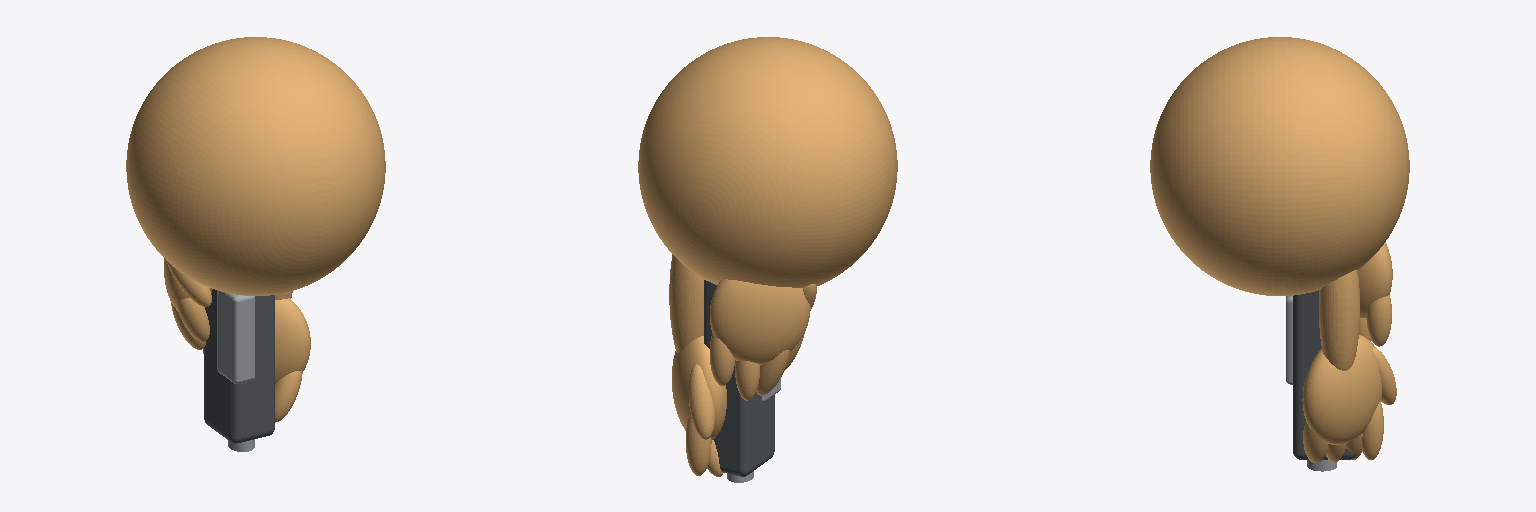
The model's file is tinker.obj.
3 views of the same model, side by side, from view 1: azimuth 30°, elevation 25°; view 2: azimuth 150°, elevation 25°; view 3: azimuth 270°, elevation 25° (orthographic).
Visible parts, largest first — view 1: obj_0, obj_13, obj_15, obj_1, obj_11, obj_2, obj_12; view 2: obj_0, obj_7, obj_13, obj_14, obj_1, obj_6, obj_5, obj_8, obj_9, obj_10; view 3: obj_0, obj_1, obj_14, obj_13, obj_7, obj_8, obj_5, obj_6, obj_2, obj_15.
Part boxes in pixels (x1,y1,x2,y2): obj_0: (126, 37, 385, 295); obj_13: (204, 289, 274, 443); obj_15: (217, 290, 254, 383); obj_1: (275, 298, 310, 383); obj_11: (176, 298, 209, 341); obj_2: (275, 371, 302, 422); obj_12: (166, 260, 211, 306); obj_0: (638, 37, 897, 287); obj_7: (710, 279, 810, 364); obj_13: (704, 280, 774, 476); obj_14: (669, 254, 703, 353); obj_1: (672, 336, 726, 439); obj_6: (689, 364, 714, 439); obj_5: (686, 418, 711, 475); obj_8: (710, 333, 734, 385); obj_9: (735, 360, 760, 400); obj_10: (756, 350, 789, 395); obj_0: (1150, 37, 1409, 295); obj_1: (1302, 335, 1381, 444); obj_14: (1319, 270, 1359, 370); obj_13: (1293, 290, 1355, 459); obj_7: (1358, 242, 1392, 317); obj_8: (1366, 295, 1391, 346); obj_5: (1361, 401, 1383, 459); obj_6: (1373, 347, 1396, 404); obj_2: (1303, 422, 1327, 462); obj_15: (1286, 296, 1292, 384).
Size of the model in its own units: 20 by 35.22 by 20.